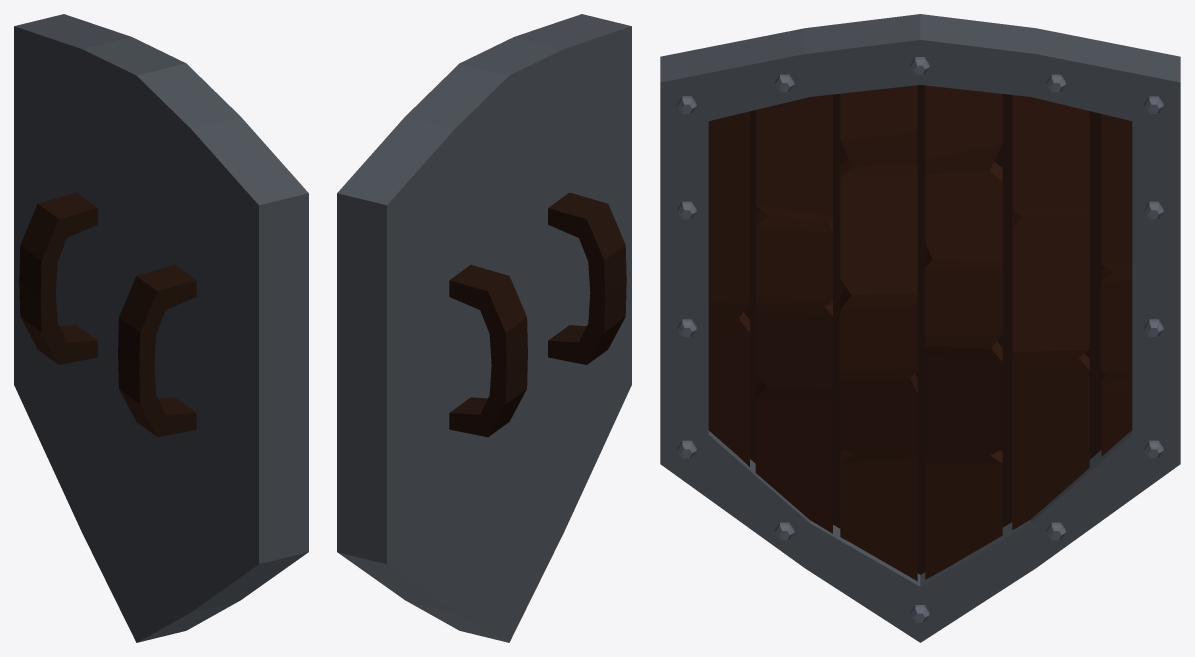
File: Shield_Heater_2.glb
The picture shows the model from 3 angles, left to right: view 1: azimuth 30°, elevation 25°; view 2: azimuth 150°, elevation 25°; view 3: azimuth 270°, elevation 25°; orthographic projection. The views are drawn at different scales.
Parts seen in each view (by area): view 1: Shield_Heater_2; view 2: Shield_Heater_2; view 3: Shield_Heater_2.
Part boxes in pixels (box(x1,y1,x2,y2)): Shield_Heater_2: box(14, 14, 308, 642); Shield_Heater_2: box(337, 14, 631, 642); Shield_Heater_2: box(660, 14, 1180, 642).
Size of the model in its own units: 0.1796 by 0.7691 by 0.6015.
